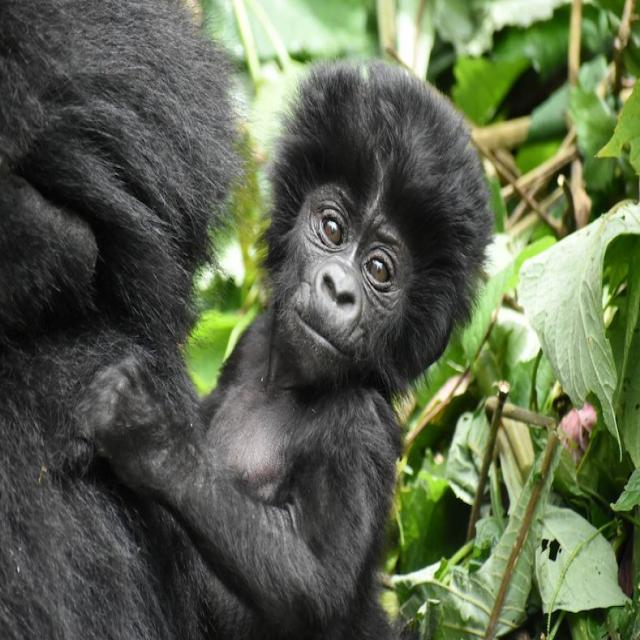Gorilla: (73, 40, 492, 631)
